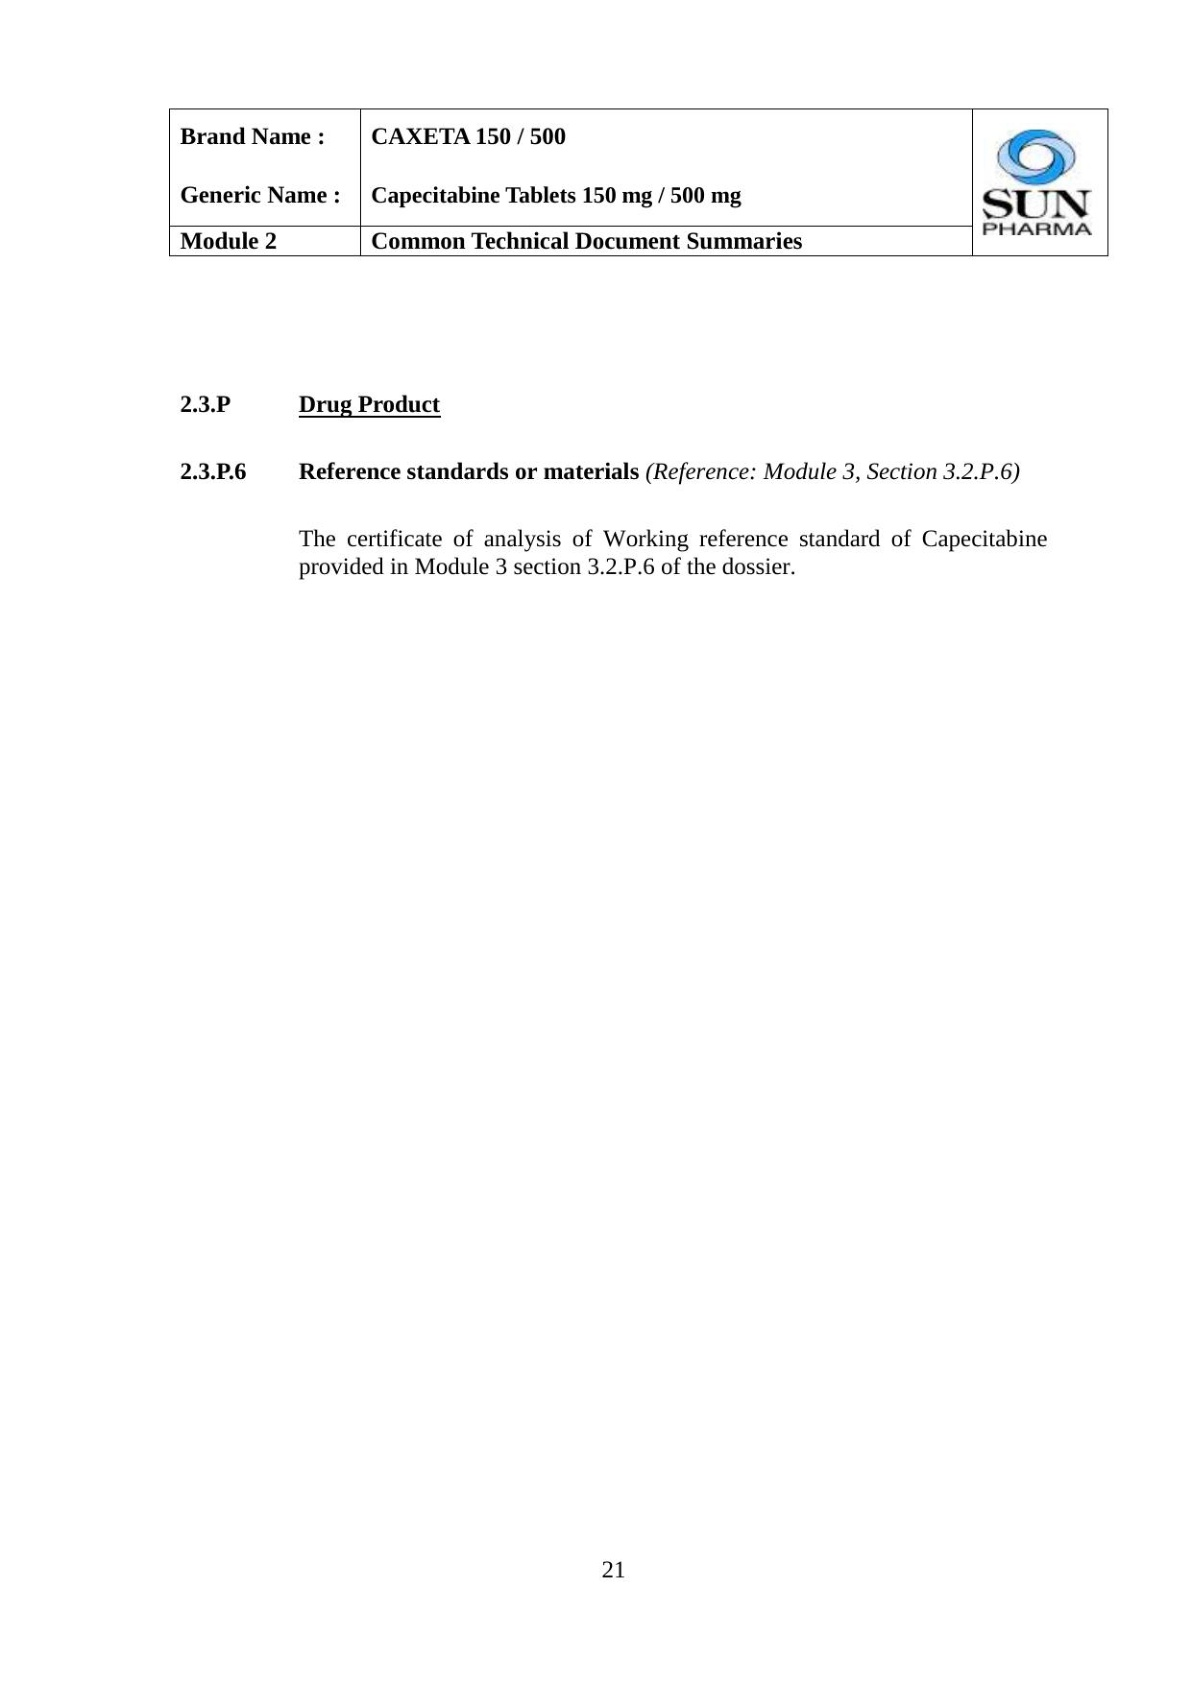merged_cells: (166, 108, 1109, 257)
